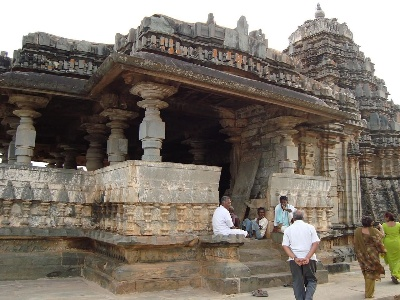mandapa: (114, 55, 336, 202), (7, 43, 172, 189)
